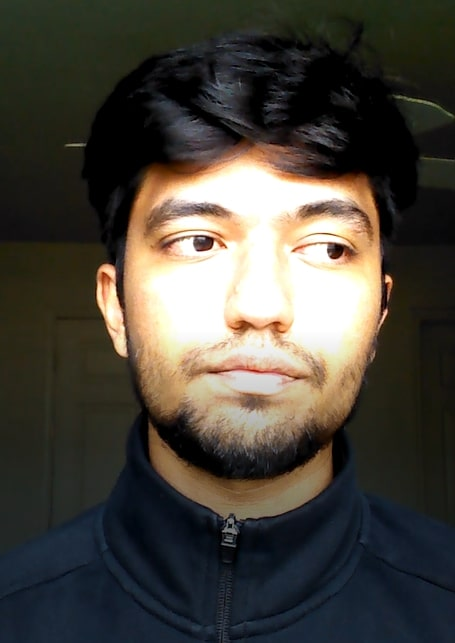Not Sleeping: (137, 195, 382, 297)
